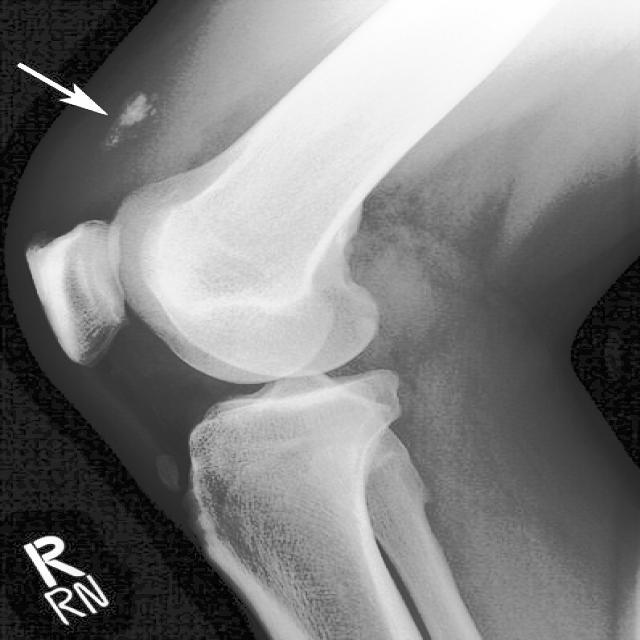Avlusion Fracture: (112, 92, 165, 152)
